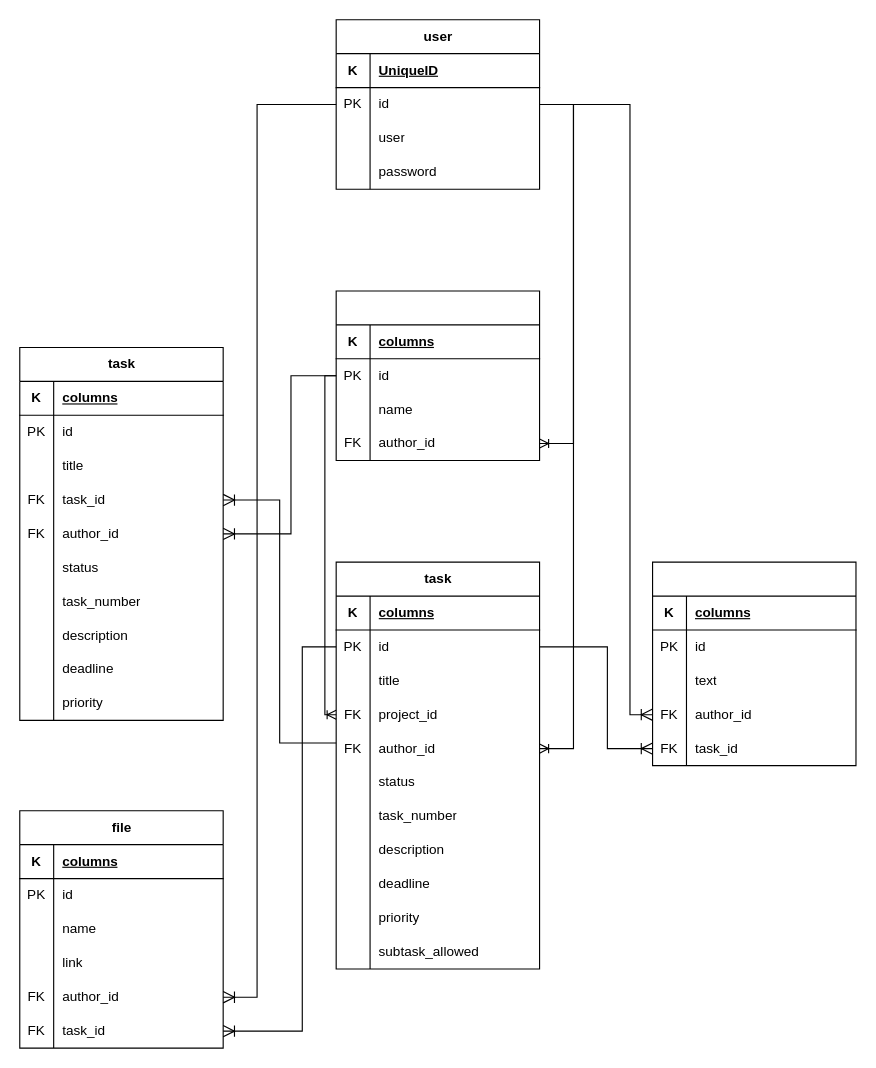
This 876x1068 diagram has some shape labels left out. The shapes that lost their labels are listed below. From the top down, each one's box as (x1, y1, x2, y2) in pixels, then its label:
(335, 290, 540, 460): project
(651, 561, 856, 766): Comment
